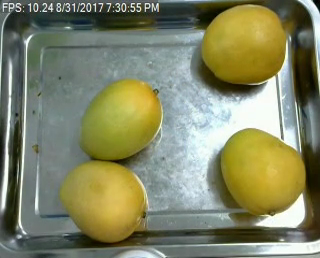Mango: (220, 128, 304, 215), (60, 160, 147, 242), (201, 4, 286, 85), (79, 80, 161, 159)
